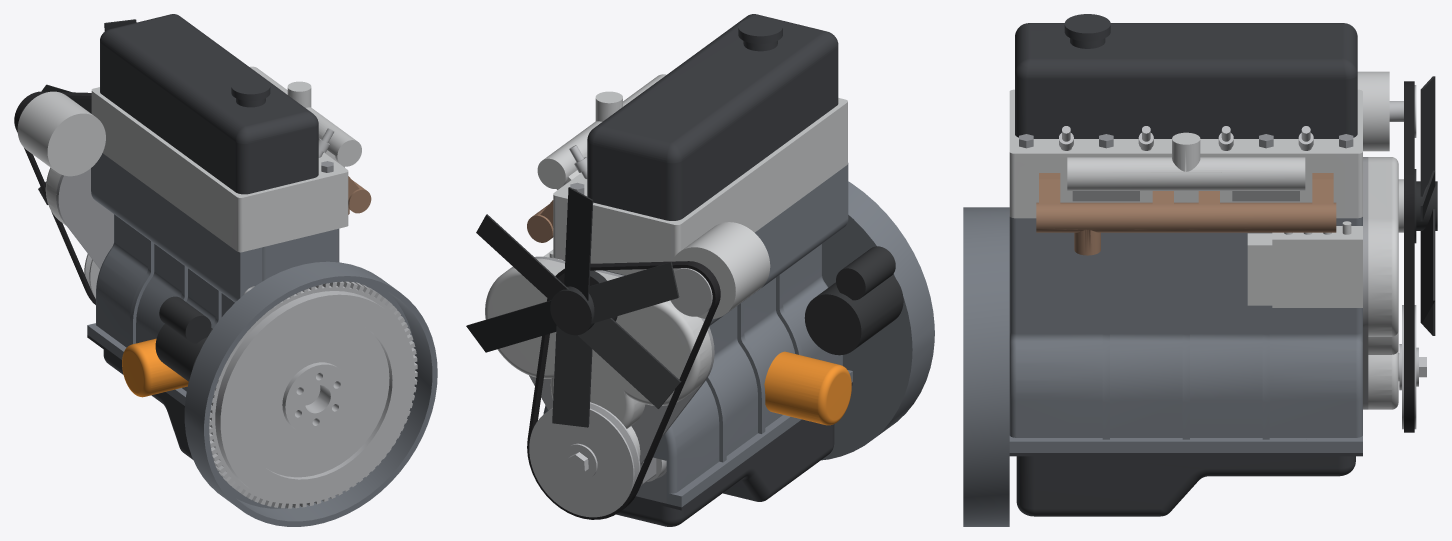
The model's file is engine.glb.
The picture shows the model from 3 angles, left to right: view 1: azimuth 30°, elevation 25°; view 2: azimuth 150°, elevation 25°; view 3: azimuth 270°, elevation 25°; orthographic projection. The views are drawn at different scales.
Visible parts, largest first — view 1: flywheel-1, valve_cover-1, frame4-1, flywheel_housing-1, head-1, alternator_body-1, timing_plate-1, starter-1, oil_filter-1, intake_manifold-1, belt-1, oil_pan-1 (+3 smaller); view 2: valve_cover-1, frame4-1, water_pump_fan-1, head-1, flywheel_housing-1, timing_cover-1, crank_pulley-1, oil_pan-1, starter-1, oil_filter-1, alternator_body-1, belt-1 (+4 smaller); view 3: frame4-1, valve_cover-1, flywheel_housing-1, oil_pan-1, exhaust_manifold-1, head-1, intake_manifold-1, injection_pump-1, timing_cover-1, water_pump_fan-1, belt-1, alternator_body-1 (+4 smaller).
Boxes of the visible parts, bbox=[...] form: flywheel-1: bbox=[209, 281, 417, 508]; valve_cover-1: bbox=[100, 14, 318, 194]; frame4-1: bbox=[87, 153, 339, 405]; flywheel_housing-1: bbox=[184, 261, 437, 526]; head-1: bbox=[91, 87, 348, 252]; alternator_body-1: bbox=[17, 91, 105, 176]; timing_plate-1: bbox=[56, 168, 113, 269]; starter-1: bbox=[155, 296, 212, 381]; oil_filter-1: bbox=[122, 338, 188, 397]; intake_manifold-1: bbox=[250, 66, 361, 167]; belt-1: bbox=[14, 91, 95, 304]; oil_pan-1: bbox=[87, 335, 192, 459]; valve_cover-1: bbox=[587, 14, 838, 220]; frame4-1: bbox=[543, 163, 852, 507]; water_pump_fan-1: bbox=[466, 187, 681, 427]; head-1: bbox=[553, 98, 847, 275]; flywheel_housing-1: bbox=[821, 181, 934, 460]; timing_cover-1: bbox=[485, 258, 711, 458]; crank_pulley-1: bbox=[529, 402, 640, 517]; oil_pan-1: bbox=[616, 382, 852, 526]; starter-1: bbox=[804, 246, 903, 355]; oil_filter-1: bbox=[764, 351, 851, 425]; alternator_body-1: bbox=[672, 222, 770, 318]; belt-1: bbox=[527, 261, 720, 519]; frame4-1: bbox=[1009, 217, 1362, 452]; valve_cover-1: bbox=[1015, 14, 1357, 138]; flywheel_housing-1: bbox=[963, 207, 1009, 526]; oil_pan-1: bbox=[1009, 453, 1362, 516]; exhaust_manifold-1: bbox=[1036, 173, 1336, 255]; head-1: bbox=[1009, 89, 1362, 218]; intake_manifold-1: bbox=[1067, 132, 1305, 201]; injection_pump-1: bbox=[1247, 221, 1362, 307]; timing_cover-1: bbox=[1368, 157, 1398, 409]; water_pump_fan-1: bbox=[1414, 76, 1437, 335]; belt-1: bbox=[1404, 81, 1414, 432]; alternator_body-1: bbox=[1357, 71, 1389, 151].
Size of the model in its own units: 370 by 594 by 534.
